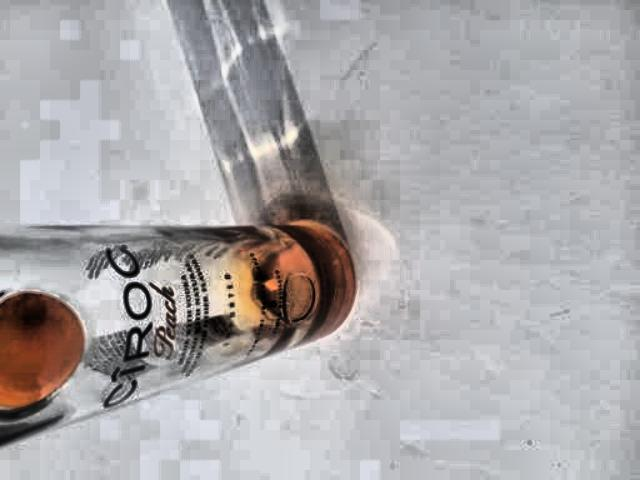Bottles: (0, 209, 364, 456)
